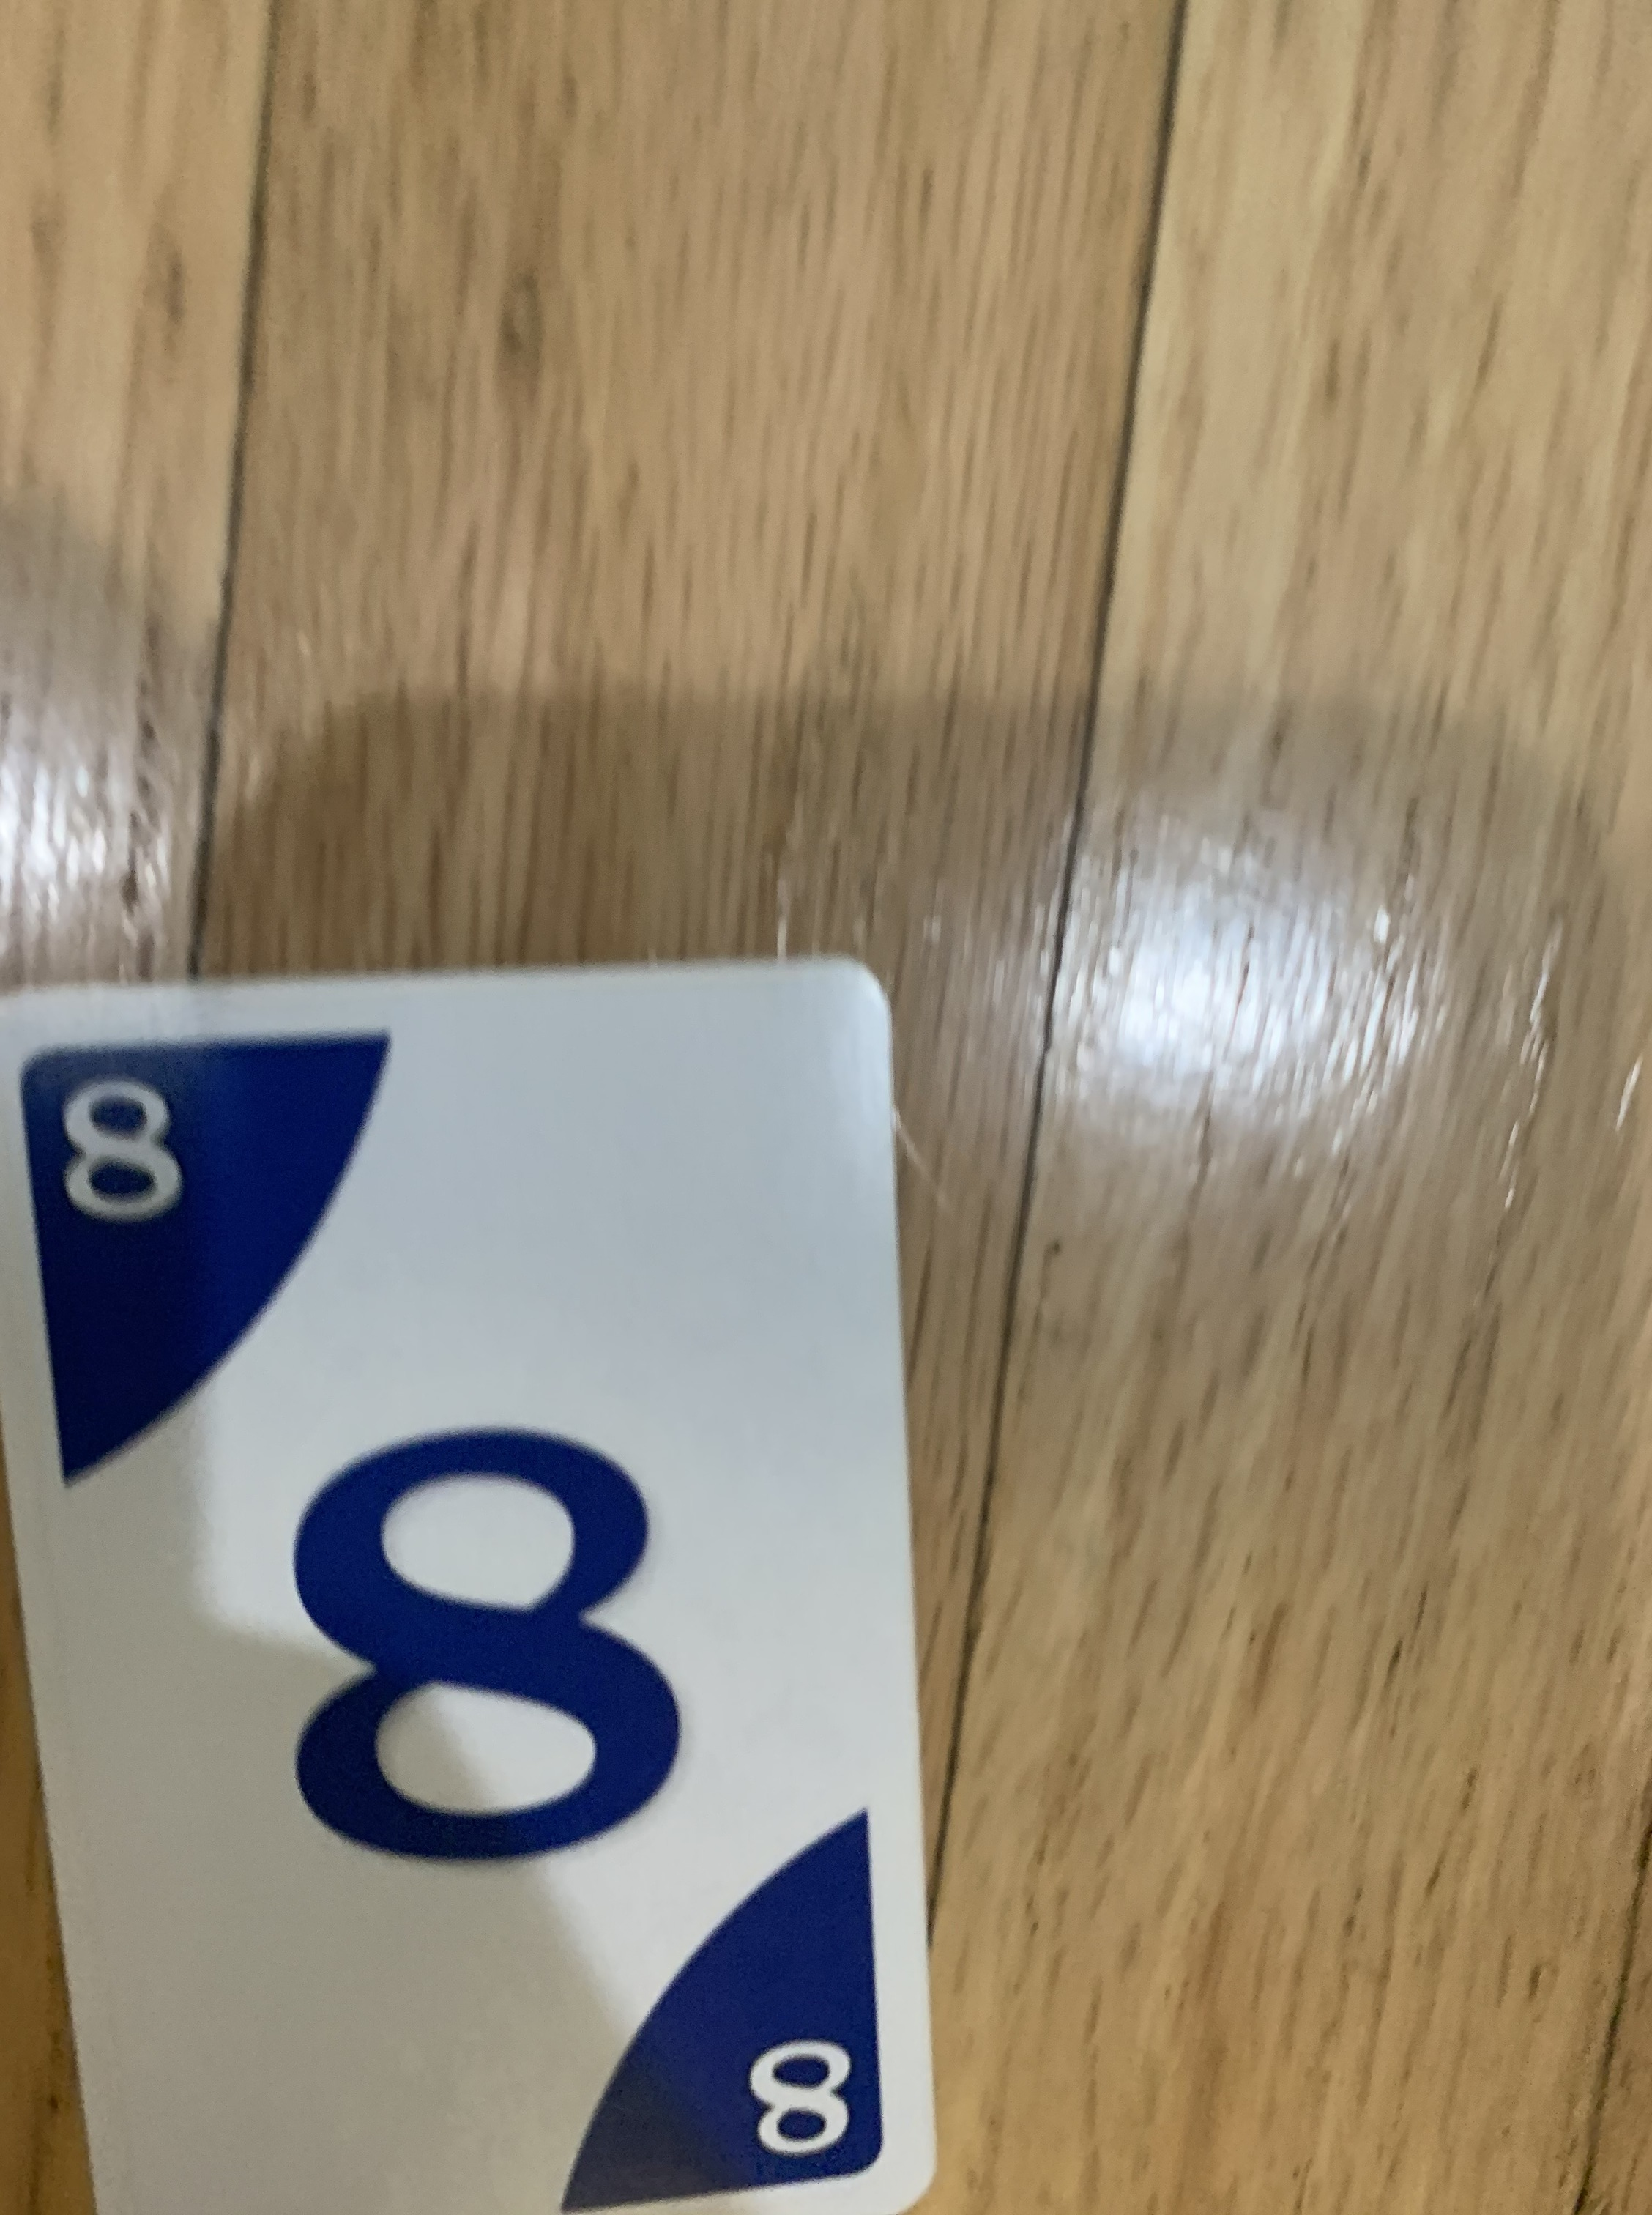eight: (0, 951, 942, 2215)
